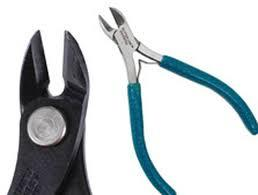pliers: (97, 5, 257, 194), (5, 28, 93, 194)
